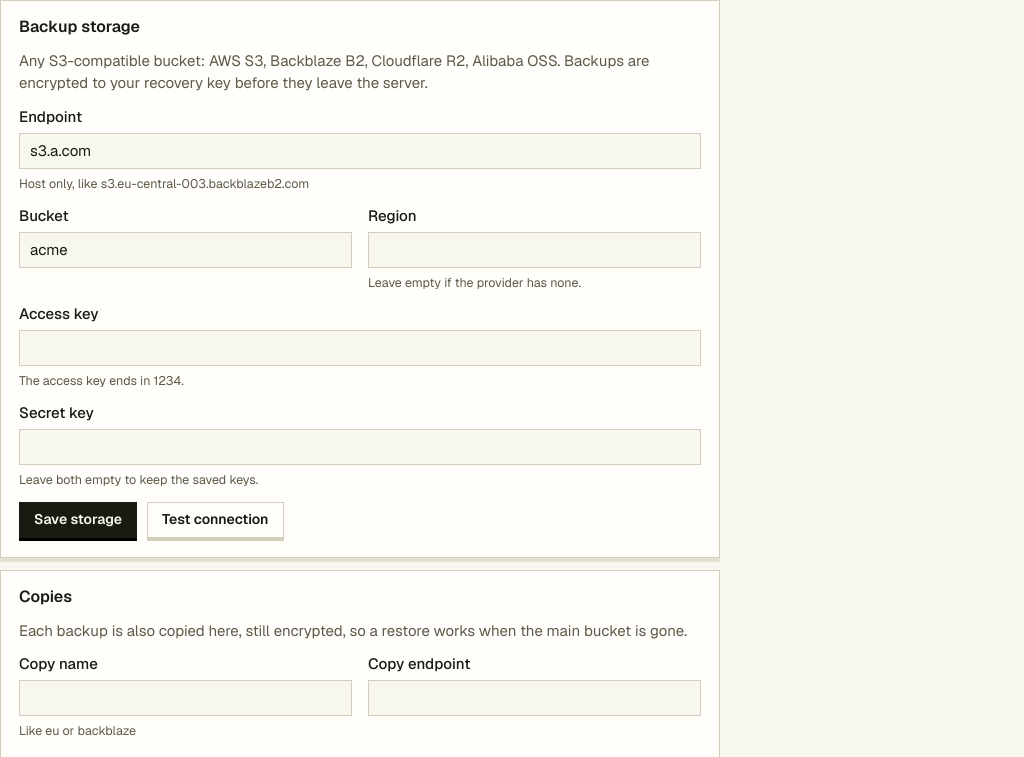
Test: Storage test connection › has no Test button before storage is saved, and hints when the form differs
The width and height of the screenshot is (1024, 757).
expect the password field labelled "Secret key" is shown: met, box [19,429,701,465]
expect the button "Test connection" is shown: met, box [147,502,284,538]
Step 1. Replace the text in the field labelled "Bucket" with "other" → point(186, 250), box [19,232,352,268]
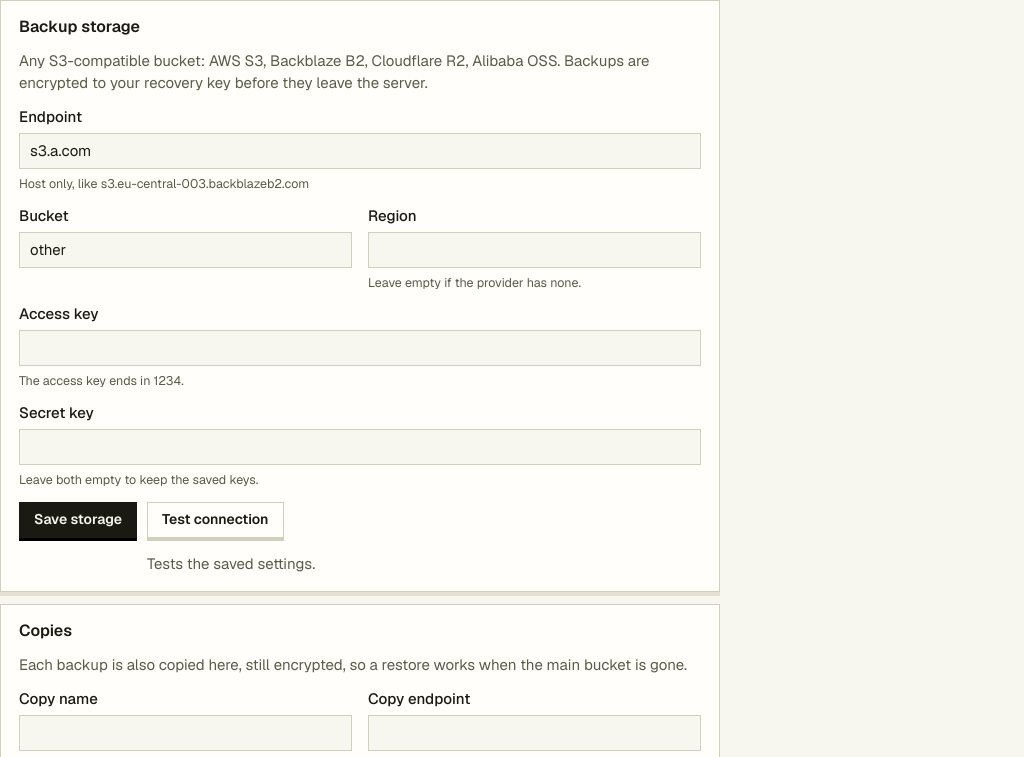
expect the text "Tests the saved settings." is shown: met, box [147,553,315,575]
